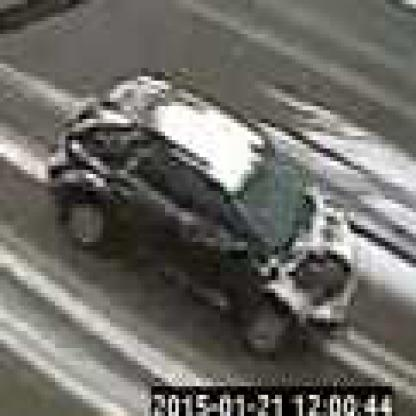car: (53, 73, 362, 353)
